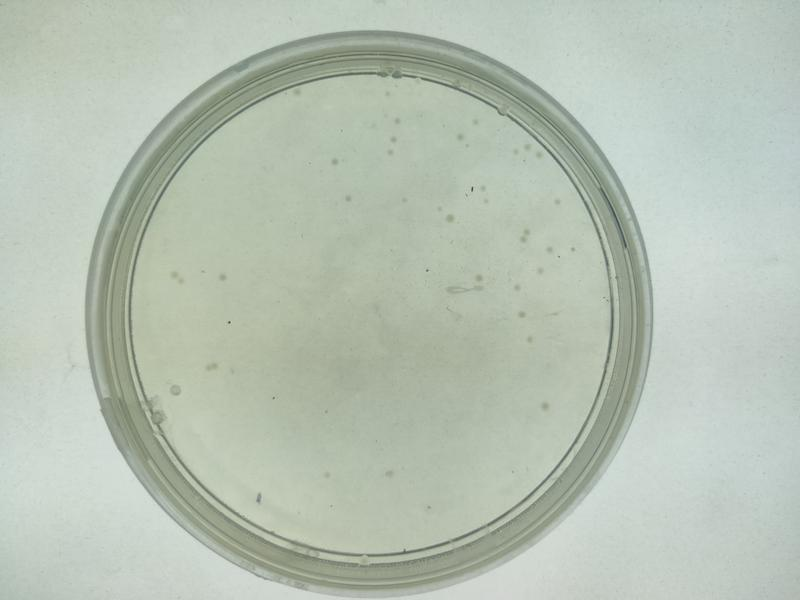colony: (506, 304, 536, 326), (372, 462, 400, 484), (334, 185, 359, 209), (533, 395, 557, 420), (312, 463, 341, 483), (324, 148, 347, 173), (440, 208, 459, 237), (213, 268, 233, 290), (518, 333, 541, 350), (504, 279, 524, 298), (531, 264, 549, 283), (543, 239, 559, 260)
